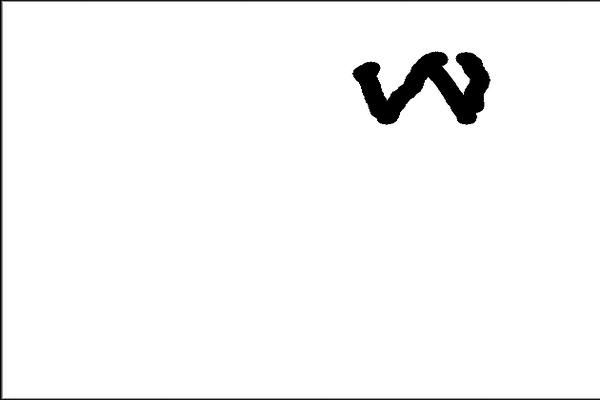w: (342, 29, 510, 139)
